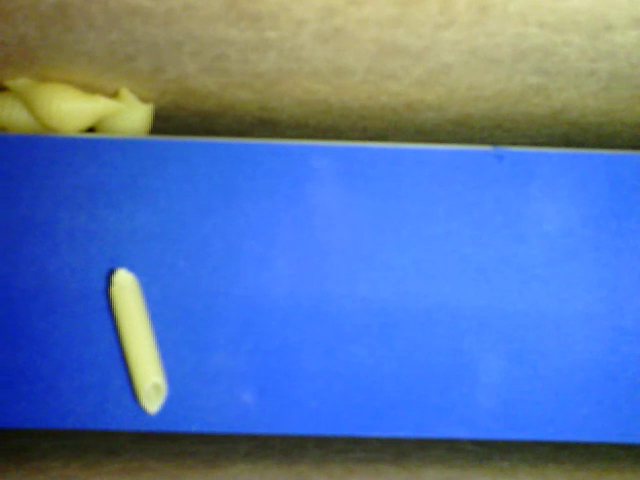penne: (107, 266, 167, 414)
shell: (1, 74, 126, 132), (95, 84, 153, 138), (1, 88, 42, 133)
